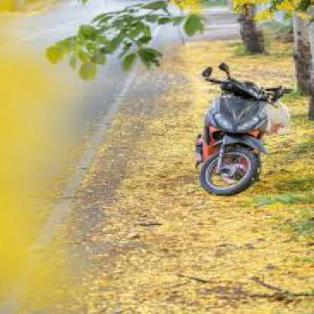Motocicleta: (190, 62, 290, 200)
